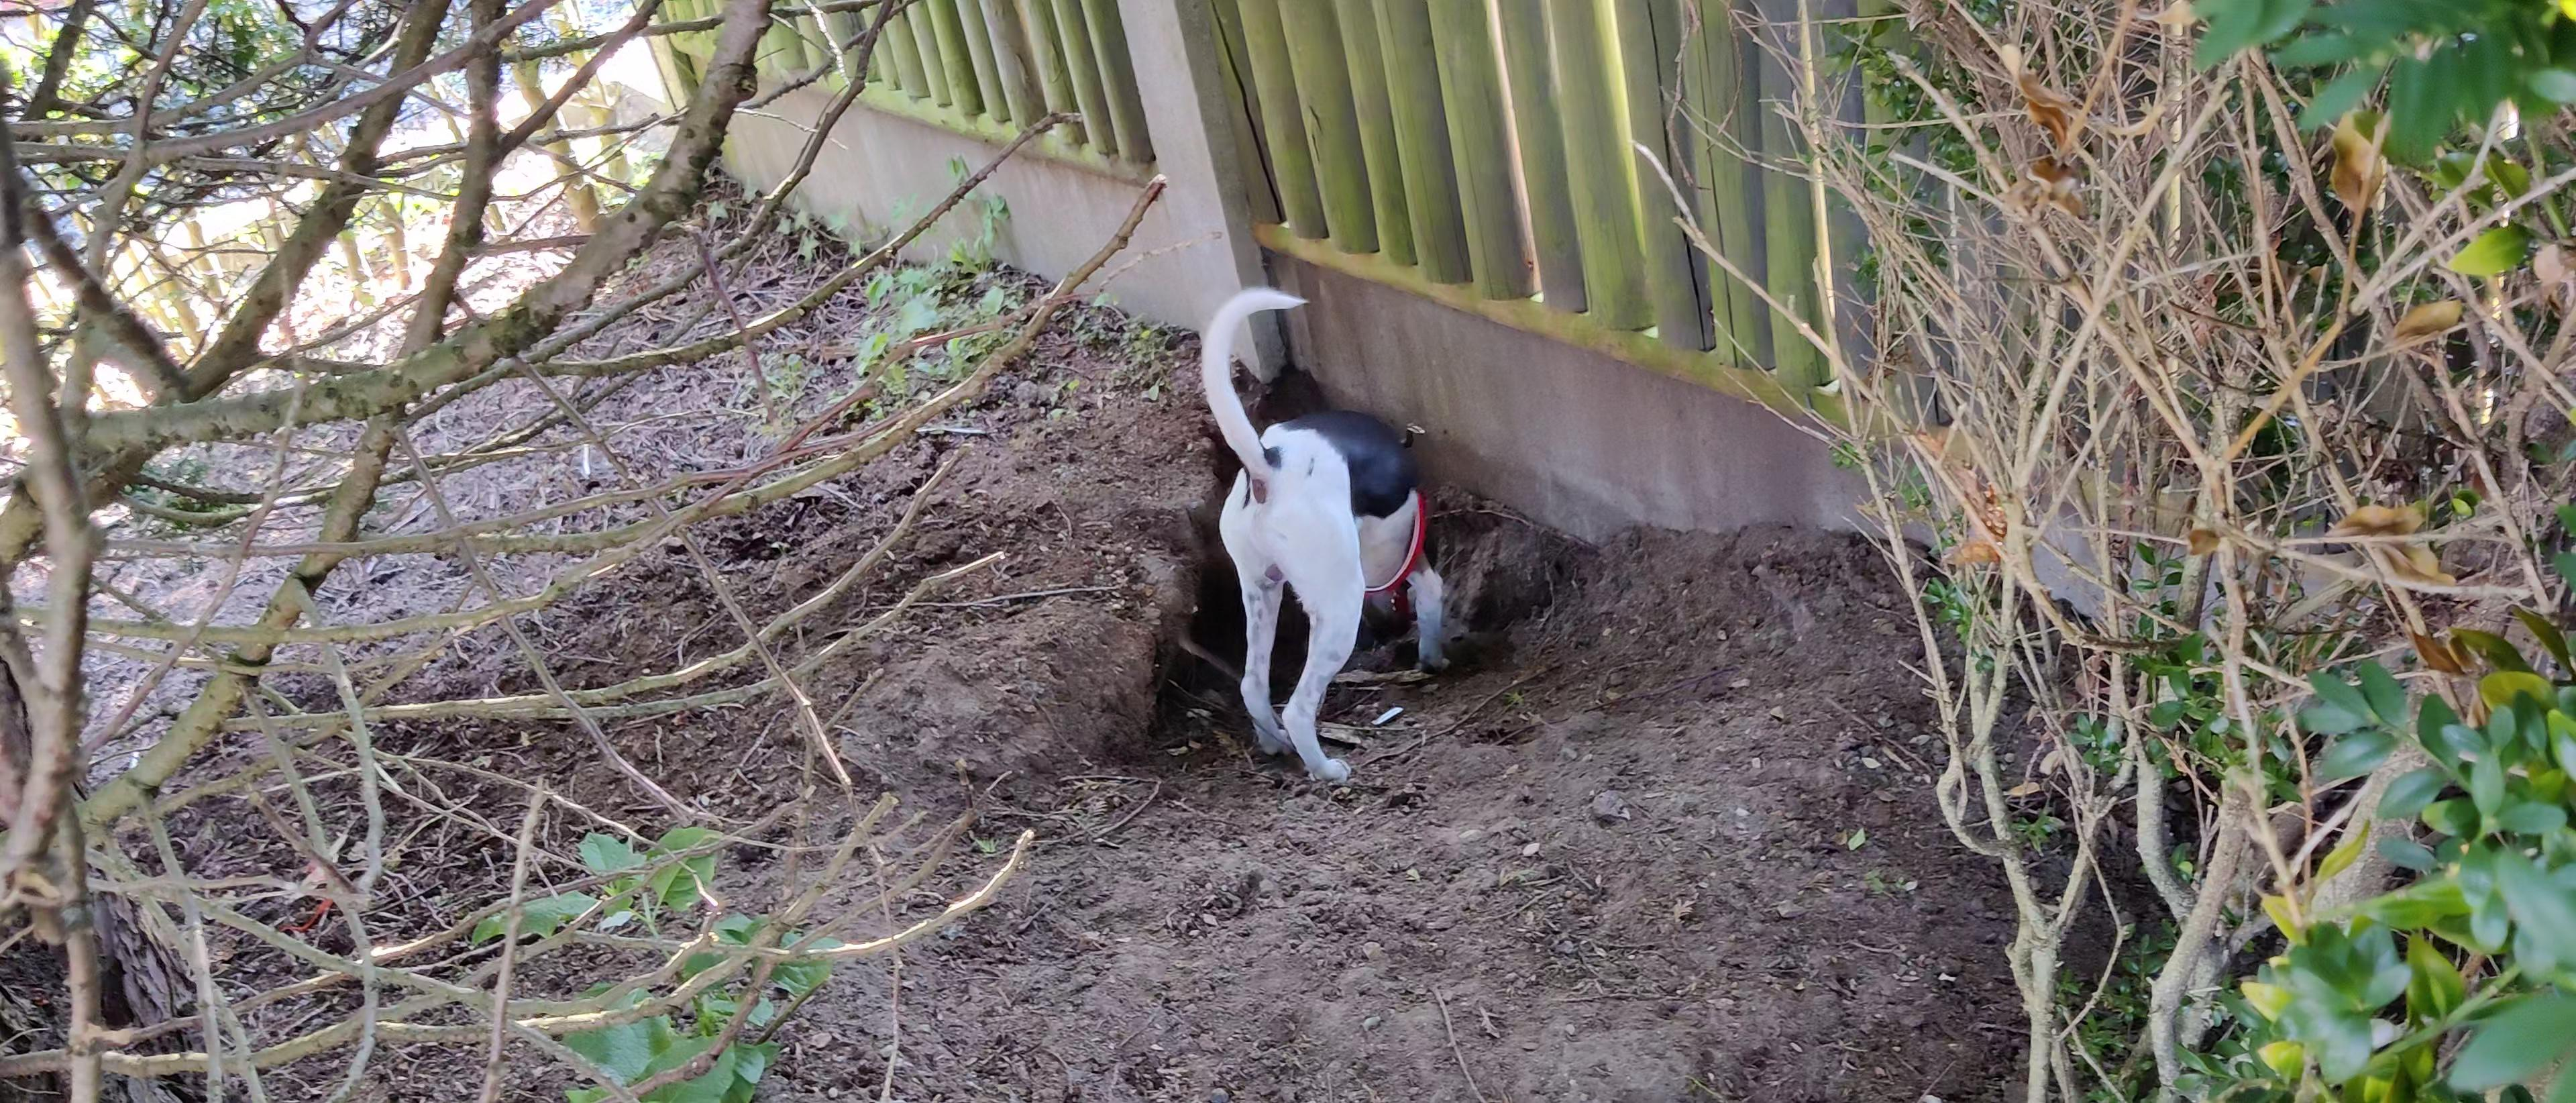Dog: (1181, 281, 1459, 797)
